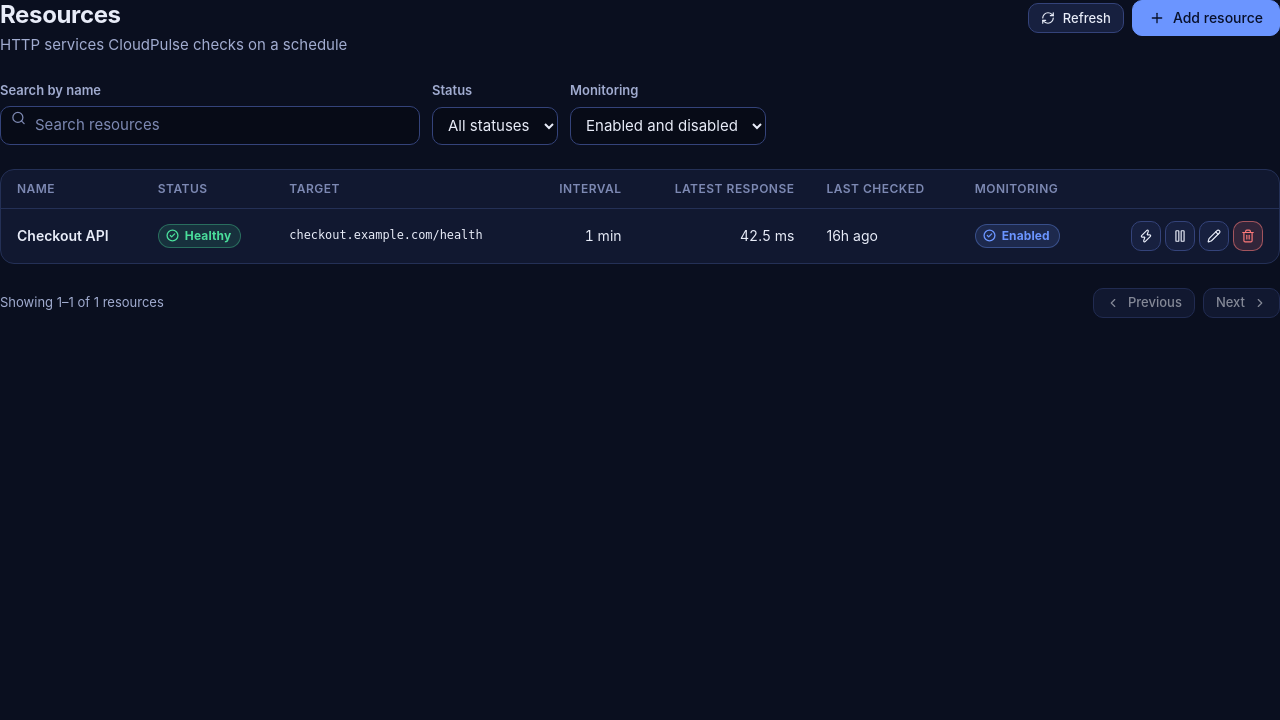
it: ResourcesPage row actions › asks for confirmation before deleting and explains what is lost and kept
Expected: the link "Checkout API" is shown, [17,227,109,244]
Click the button named "Delete Checkout API": (1248, 236) [1233,220,1263,250]
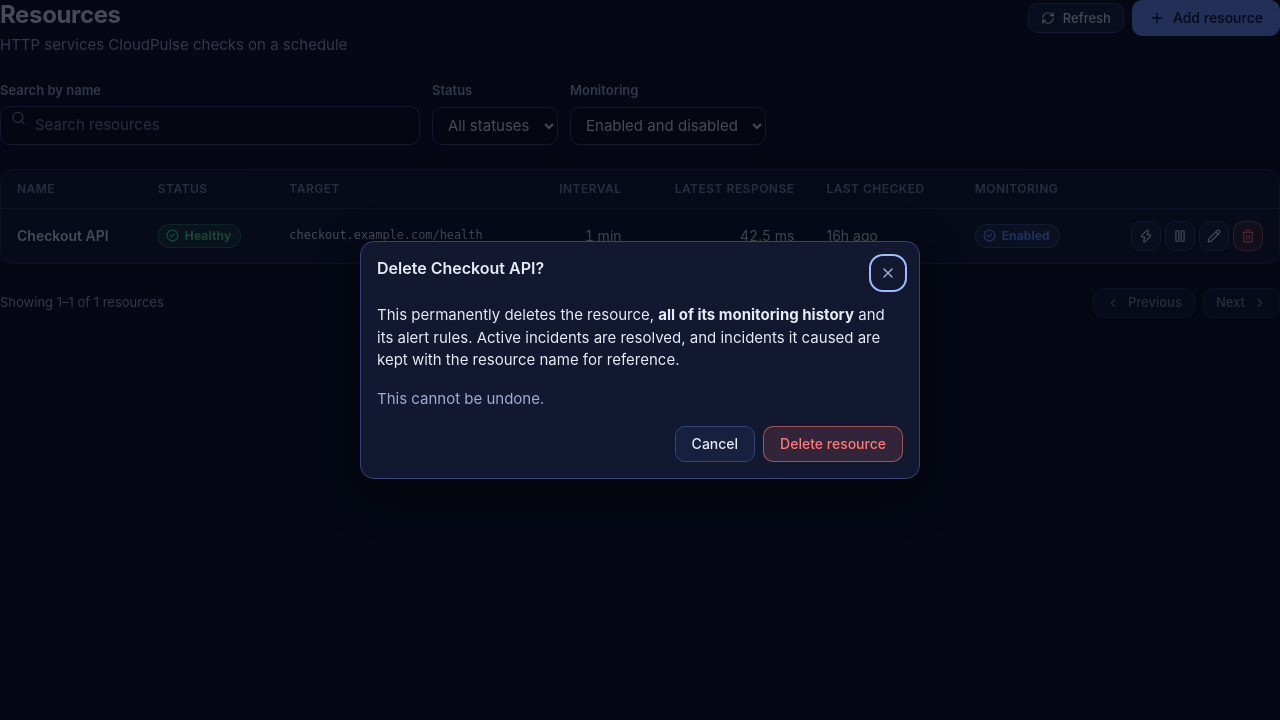
Expected: the text "all of its monitoring history" is shown, [658,305,854,324]
Expected: the text "incidents it caused are kept" is shown, [377,305,885,369]
Click the button "Delete resource": (833, 444) [763,426,903,462]
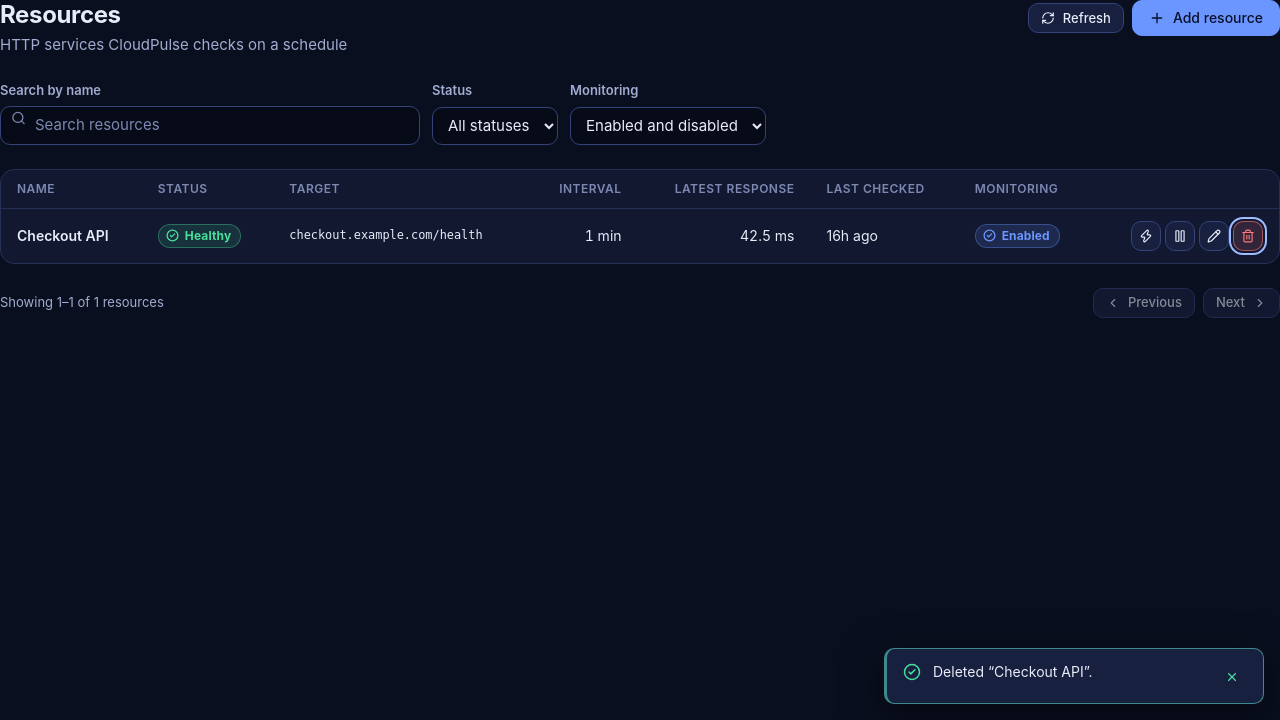
Expected: the text "Deleted “Checkout API”." is shown, [933,663,1092,680]
